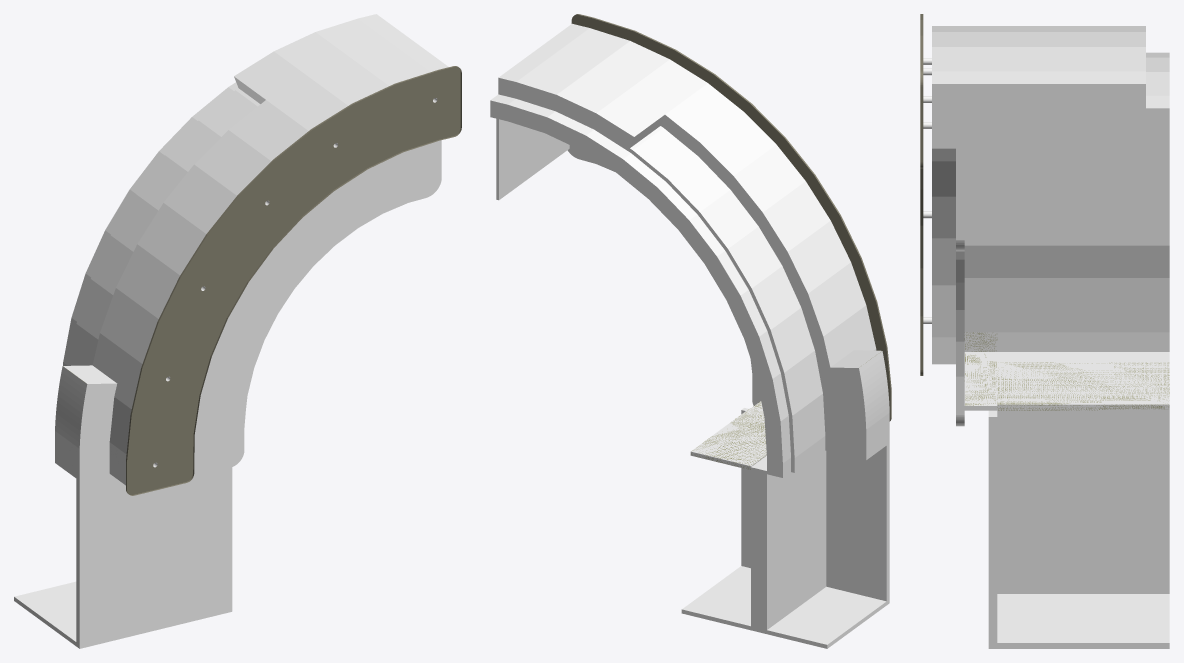
3 renders of one model, left to right at view 1: azimuth 30°, elevation 25°; view 2: azimuth 150°, elevation 25°; view 3: azimuth 270°, elevation 25°, orthographic. The views are drawn at different scales.
Parts seen in each view (by area): view 1: reception desk; view 2: reception desk; view 3: reception desk.
Part boxes in pixels (left/top/right/bottom): reception desk: left=14, top=14, right=461, bottom=648; reception desk: left=490, top=14, right=891, bottom=648; reception desk: left=920, top=14, right=1169, bottom=648.
Bounding box in the file's own units: 96 × 132 × 42.
